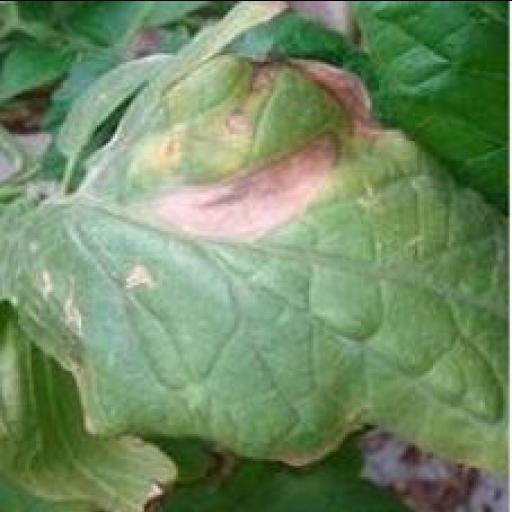Late Blight: (0, 45, 507, 485)
